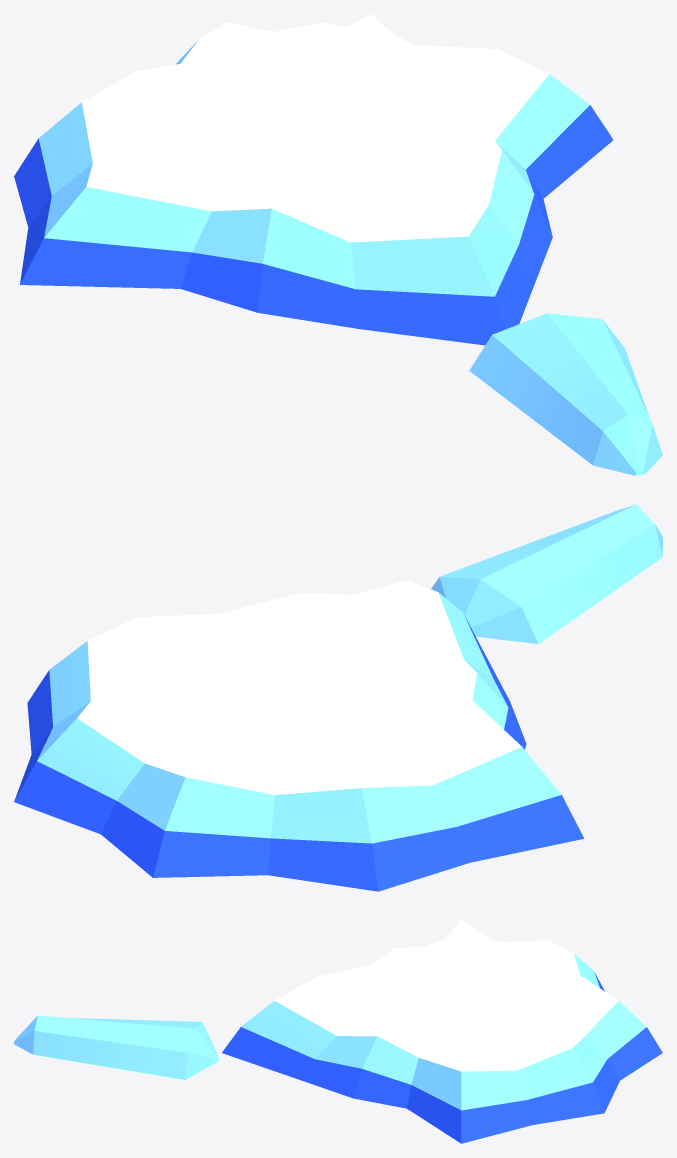
The model's file is shot_ice_141.glb.
The picture shows the model from 3 angles, top to bottom: view 1: azimuth 30°, elevation 25°; view 2: azimuth 150°, elevation 25°; view 3: azimuth 270°, elevation 25°; orthographic projection. The views are drawn at different scales.
Visible parts, largest first — view 1: shot_ice_141_cap, shot_ice_141_trail; view 2: shot_ice_141_cap, shot_ice_141_trail; view 3: shot_ice_141_cap, shot_ice_141_trail.
Boxes of the visible parts, x1,y1,x2,y2 form: shot_ice_141_cap: (14,14,613,345); shot_ice_141_trail: (469,313,662,475); shot_ice_141_cap: (14,580,584,891); shot_ice_141_trail: (431,504,662,643); shot_ice_141_cap: (222,920,662,1143); shot_ice_141_trail: (14,1015,219,1079).
Size of the model in its own units: 8.33 by 2.53 by 12.35.
